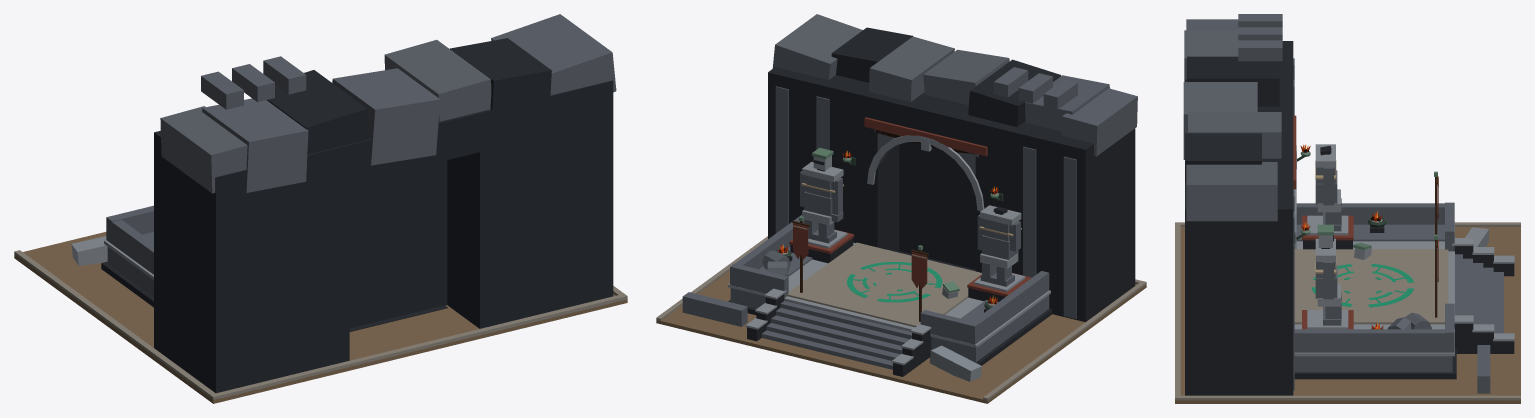
The model's file is 地下城入口_手游_远.glb.
3 renders of one model, left to right at view 1: azimuth 30°, elevation 25°; view 2: azimuth 150°, elevation 25°; view 3: azimuth 270°, elevation 25°, orthographic. The views are drawn at different scales.
Visible parts, largest first — view 1: UC-主体; view 2: UC-主体, UC-team, UC-自发光; view 3: UC-主体, UC-自发光, UC-team.
Part boxes in pixels (bbox=[...]): UC-主体: bbox=[14, 14, 627, 403]; UC-主体: bbox=[656, 14, 1146, 403]; UC-team: bbox=[789, 117, 1031, 296]; UC-自发光: bbox=[777, 130, 998, 304]; UC-主体: bbox=[1175, 14, 1520, 403]; UC-自发光: bbox=[1300, 144, 1413, 329]; UC-team: bbox=[1293, 115, 1438, 329].
Size of the model in its own units: 14.6 by 9.12 by 12.15.
Materials: 4 (2 with a texture image).
